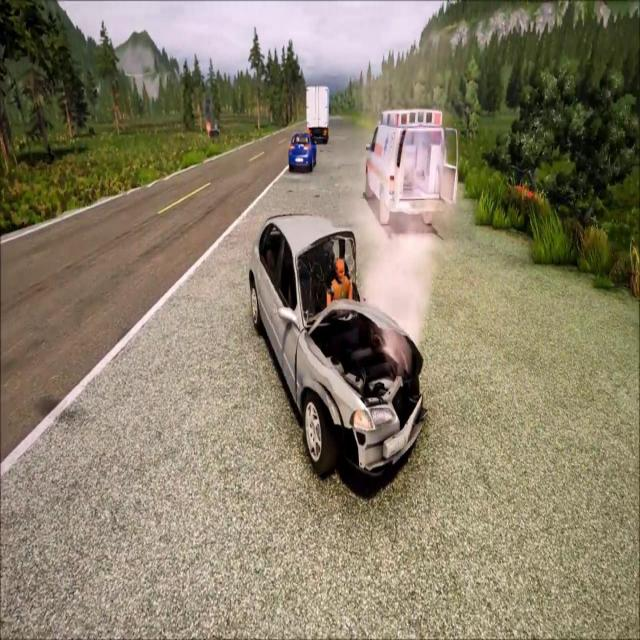accident: (244, 210, 432, 490)
